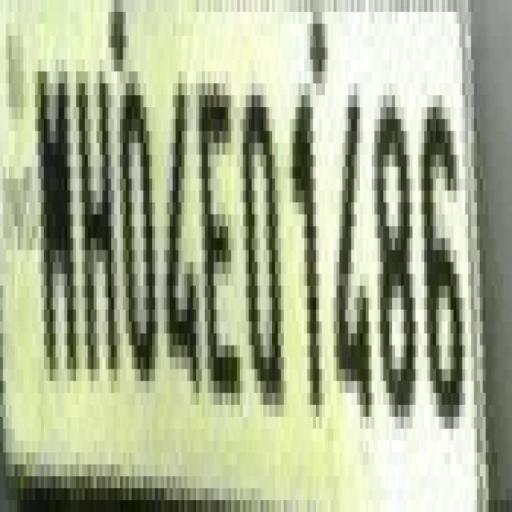number plate: (0, 11, 491, 488)
